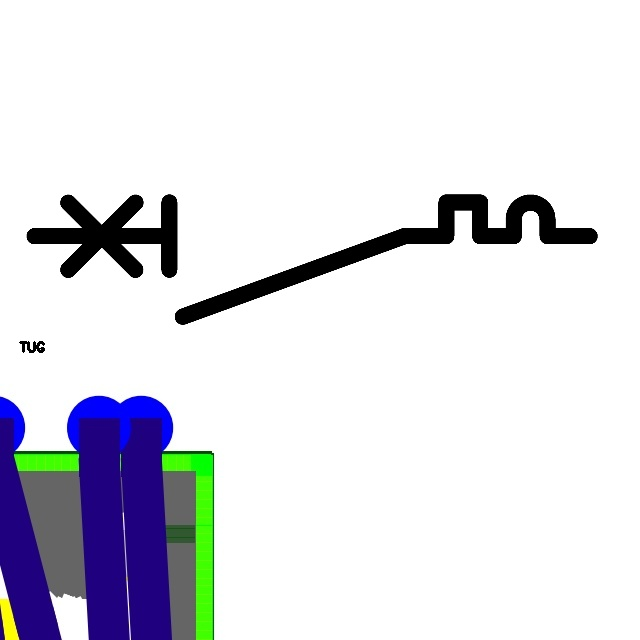interruptor_termomagnetico: (20, 188, 604, 331)
